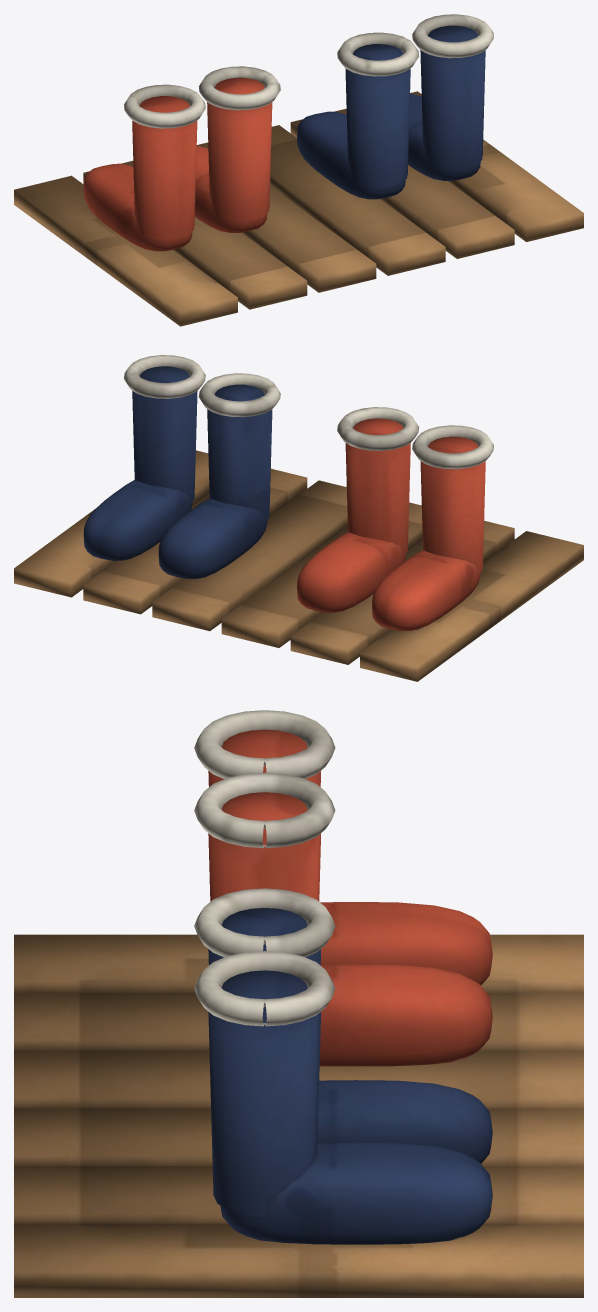
The model's file is boot_tray.glb.
3 views of the same model, one above another, from view 1: azimuth 30°, elevation 25°; view 2: azimuth 150°, elevation 25°; view 3: azimuth 270°, elevation 25° (orthographic). The views are drawn at different scales.
Parts seen in each view (by area): view 1: boot_tray_wood, boot_tray_felt_indigo, boot_tray_felt_red, boot_tray_felt_ivory; view 2: boot_tray_wood, boot_tray_felt_indigo, boot_tray_felt_red, boot_tray_felt_ivory; view 3: boot_tray_wood, boot_tray_felt_indigo, boot_tray_felt_red, boot_tray_felt_ivory.
Boxes of the visible parts, x1,y1,x2,y2 form: boot_tray_wood: [14, 91, 583, 326]; boot_tray_felt_indigo: [297, 25, 485, 199]; boot_tray_felt_red: [83, 77, 272, 251]; boot_tray_felt_ivory: [124, 14, 493, 128]; boot_tray_wood: [14, 450, 583, 681]; boot_tray_felt_indigo: [83, 366, 272, 578]; boot_tray_felt_red: [297, 418, 485, 630]; boot_tray_felt_ivory: [124, 355, 493, 469]; boot_tray_wood: [14, 934, 583, 1297]; boot_tray_felt_indigo: [208, 908, 492, 1244]; boot_tray_felt_red: [208, 729, 492, 1066]; boot_tray_felt_ivory: [194, 710, 335, 1026].
Bounding box in the file's own units: 1.4 × 0.5258 × 1.
Materials: 4 (4 with a texture image).
